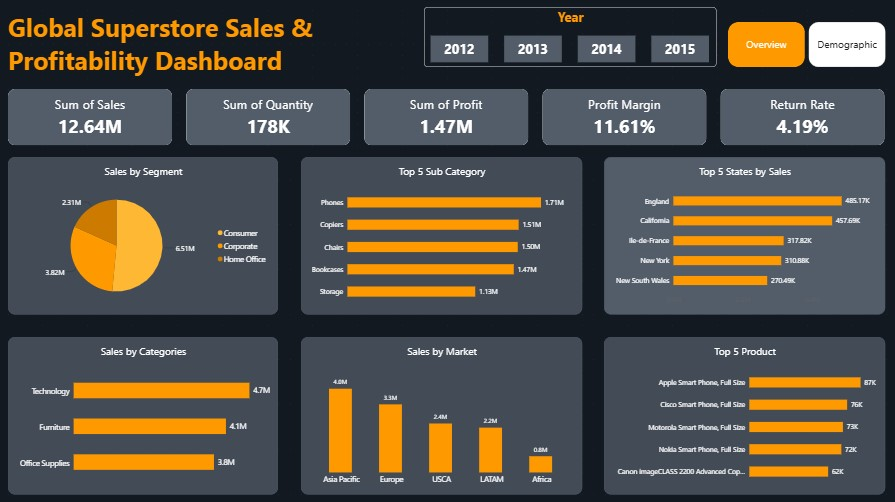

What the dashboard file says about the page in this screenshot:
{"tool":"powerbi","page":{"name":"Overview","canvas":[1920,1080],"ordinal":0},"visuals":[{"type":"advancedSlicerVisual","fields":{"Values":["Orders.Order Date.Variation.Date Hierarchy.Year"]},"box":[912,16,624,128],"z":1000},{"type":"cardVisual","fields":{"Data":["Sum(Orders.Sales)","Sum(Orders.Quantity)","Sum(Orders.Profit)","Orders.Profit Margin","Orders.Return Rate"]},"box":[24,192,1872,120],"z":2000},{"type":"pieChart","title":"Sales by Segment","fields":{"Category":["Orders.Segment"],"Y":["Sum(Orders.Sales)"]},"box":[24,336,576,336],"z":3000},{"type":"clusteredBarChart","title":"Top 5 Sub Category","fields":{"Category":["Orders.Sub-Category"],"Y":["Sum(Orders.Sales)"]},"box":[648,336,600,336],"z":4000},{"type":"clusteredBarChart","title":"Sales by Categories","fields":{"Category":["Orders.Category"],"Y":["Sum(Orders.Sales)"]},"box":[24,720,576,336],"z":5000},{"type":"clusteredColumnChart","title":"Sales by Market","fields":{"Category":["Orders.Market"],"Y":["Sum(Orders.Sales)"]},"box":[648,720,600,336],"z":6000},{"type":"clusteredBarChart","title":"Top 5 Product","fields":{"Category":["Orders.Product Name"],"Y":["Sum(Orders.Sales)"]},"box":[1296,720,600,336],"z":7000},{"type":"clusteredBarChart","title":"Top 5 States by Sales","fields":{"Category":["Orders.State"],"Y":["Sum(Orders.Sales)"]},"box":[1296,336,600,336],"z":8000},{"type":"pageNavigator","box":[1560,48,336,96],"z":8001},{"type":"textbox","box":[24,24,864,144],"z":8002}]}

Visuals, with their boxes in screenshot pixels (x1, y1, x2, y2), scaled from the page's 1920x1080 canvas onto the 895x502 screenshot:
advancedSlicerVisual - Orders.Order Date.Variation.Date Hierarchy.Year: 425/7/716/67
cardVisual - Sum(Orders.Sales) x Sum(Orders.Quantity): 11/89/884/145
"Sales by Segment" pieChart: 11/156/280/312
"Top 5 Sub Category" clusteredBarChart: 302/156/582/312
"Sales by Categories" clusteredBarChart: 11/335/280/491
"Sales by Market" clusteredColumnChart: 302/335/582/491
"Top 5 Product" clusteredBarChart: 604/335/884/491
"Top 5 States by Sales" clusteredBarChart: 604/156/884/312
pageNavigator: 727/22/884/67
textbox: 11/11/414/78
